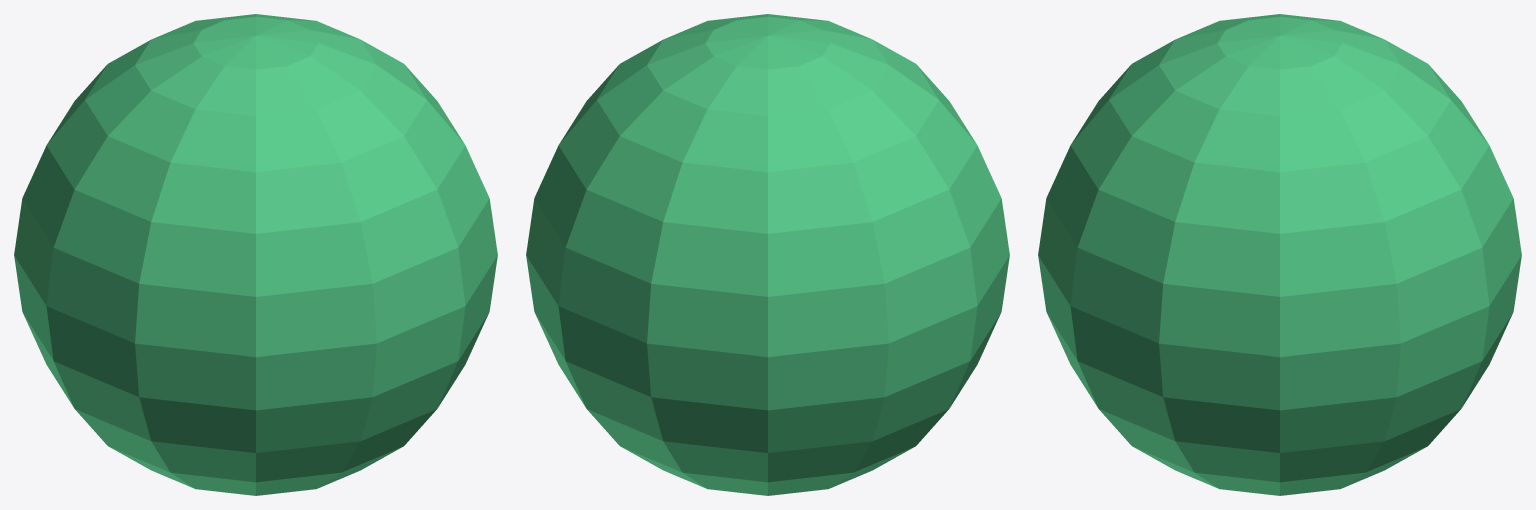
File: barrie.obj
3 renders of one model, left to right at view 1: azimuth 30°, elevation 25°; view 2: azimuth 150°, elevation 25°; view 3: azimuth 270°, elevation 25°, orthographic.
Parts seen in each view (by area): view 1: 球; view 2: 球; view 3: 球.
Part boxes in pixels (x1=…): 球: x1=14, y1=14, x2=497, y2=495; 球: x1=526, y1=14, x2=1009, y2=495; 球: x1=1038, y1=14, x2=1521, y2=495.
Bounding box in the file's own units: 2.04 × 2.04 × 2.04.
1 material, 1 textured.
